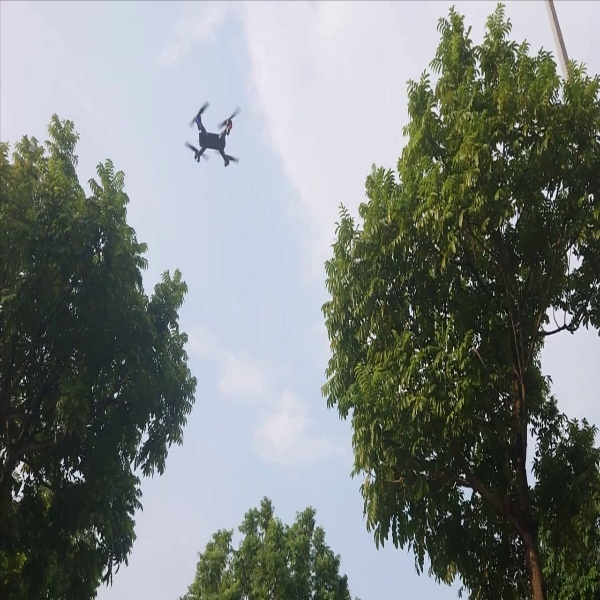drone: (171, 94, 258, 180)
